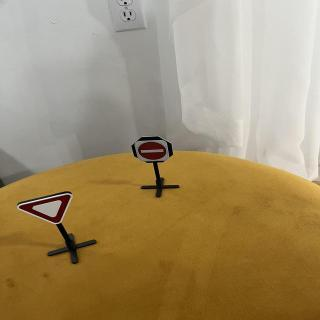sign_noentry: (135, 140, 171, 164)
sign_yield: (17, 194, 80, 227)
